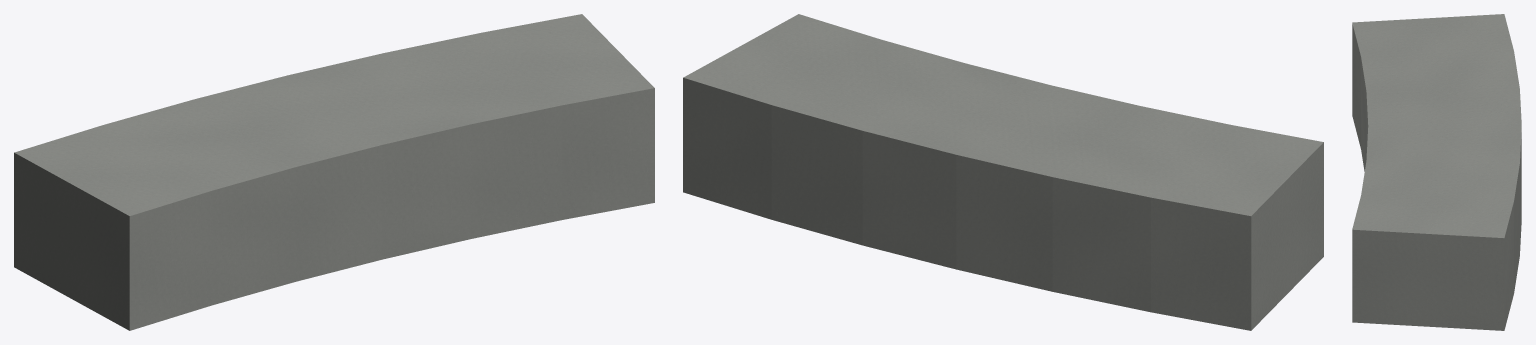
File: Curb_Curve.fbx
3 views of the same model, side by side, from view 1: azimuth 30°, elevation 25°; view 2: azimuth 150°, elevation 25°; view 3: azimuth 270°, elevation 25° (orthographic). The views are drawn at different scales.
Parts seen in each view (by area): view 1: Curb_Curve; view 2: Curb_Curve; view 3: Curb_Curve.
Part boxes in pixels (bbox=[...]): Curb_Curve: bbox=[14, 14, 654, 330]; Curb_Curve: bbox=[683, 14, 1323, 330]; Curb_Curve: bbox=[1352, 14, 1521, 330].
Size of the model in its own units: 0.6218 by 0.12 by 0.1988.
Materials: 1 (1 with a texture image).
